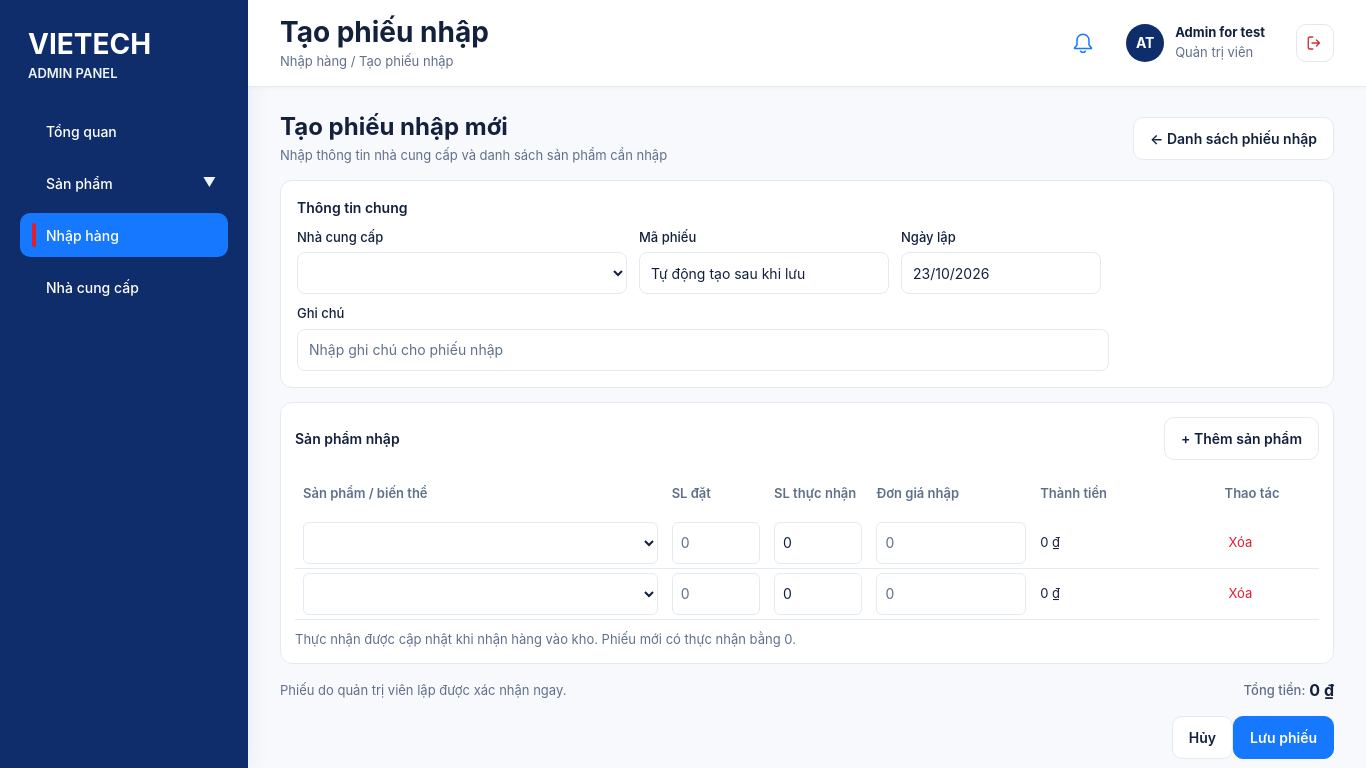
Test: saving a new order submits entered unit prices only and opens its detail using the server date and status
expect the button "Lưu phiếu" is enabled: met, box [1233,716,1334,759]
Select "NCC hoạt động" in the dropdown labelled "Nhà cung cấp" at (462, 273), box [297,252,627,294]
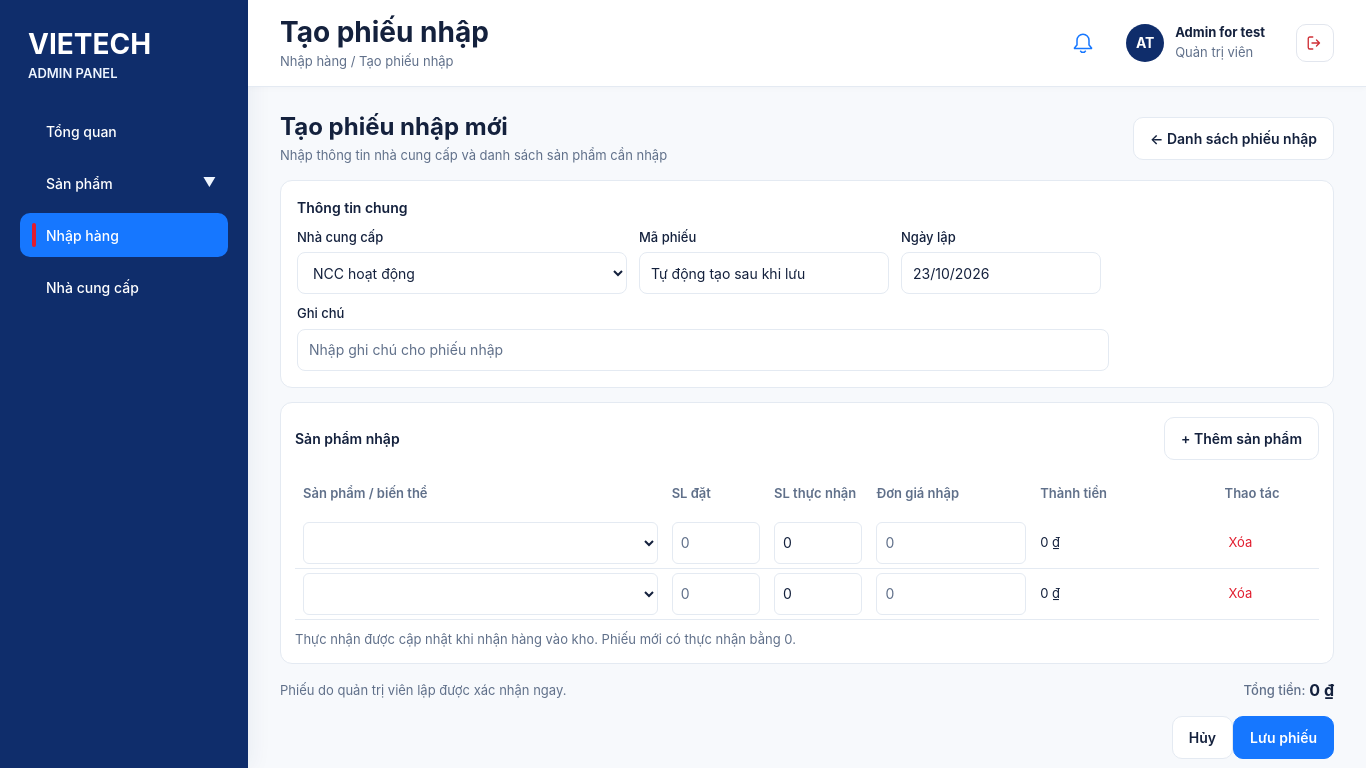
Select "Điện thoại / Đen / PHONE-DEN" in the dropdown named "Sản phẩm / biến thể dòng 1" at (480, 543), box [303,522,658,564]
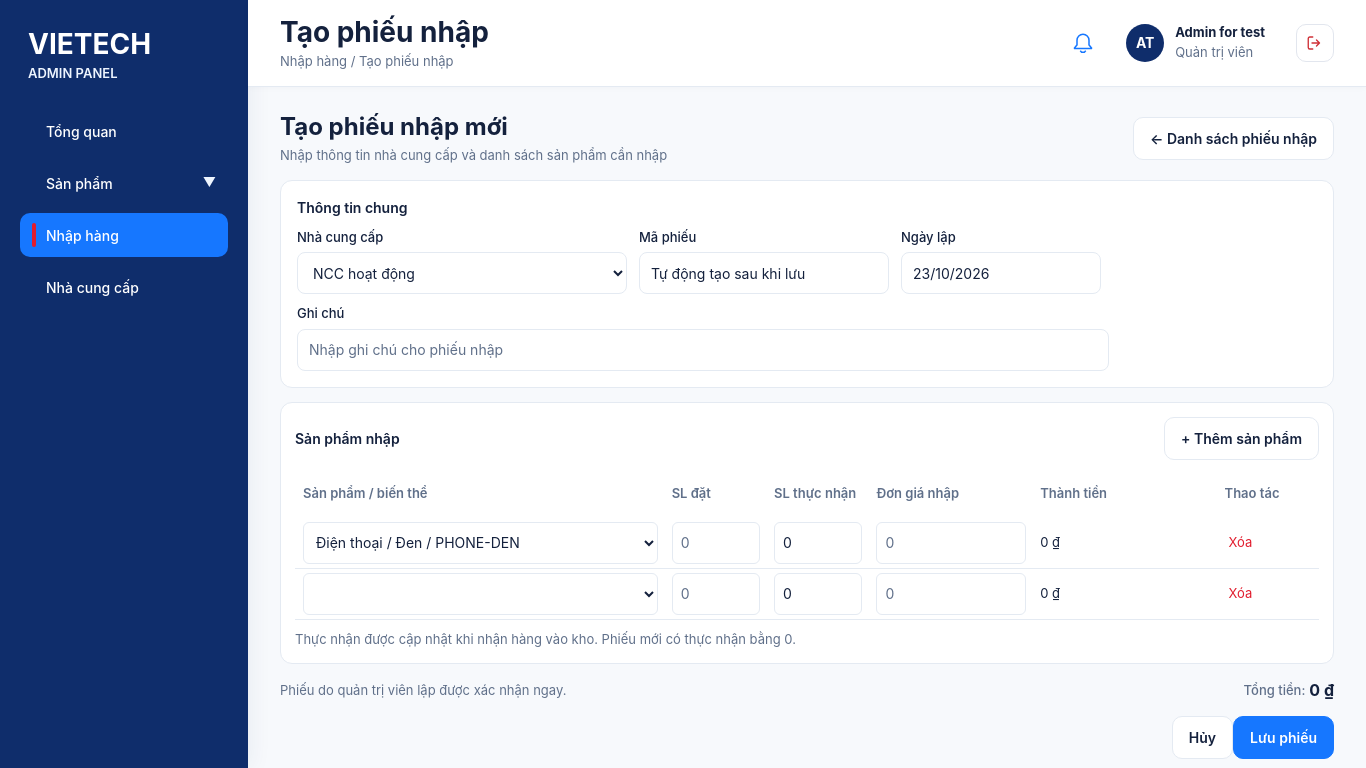
Type "3" into the number field named "Số lượng đặt dòng 1" at (716, 543), box [672,522,760,564]
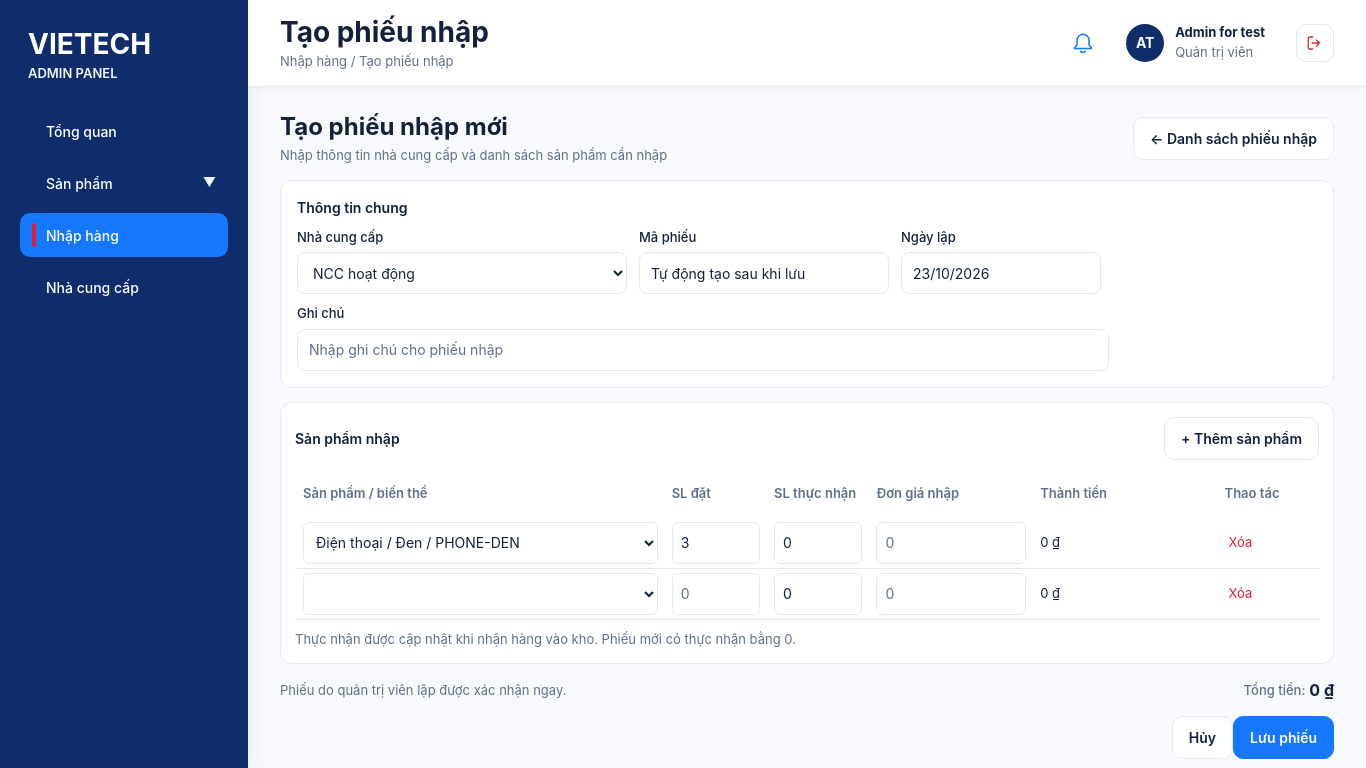
Type "12.50" into the number field named "Đơn giá nhập dòng 1" at (951, 543), box [876,522,1026,564]
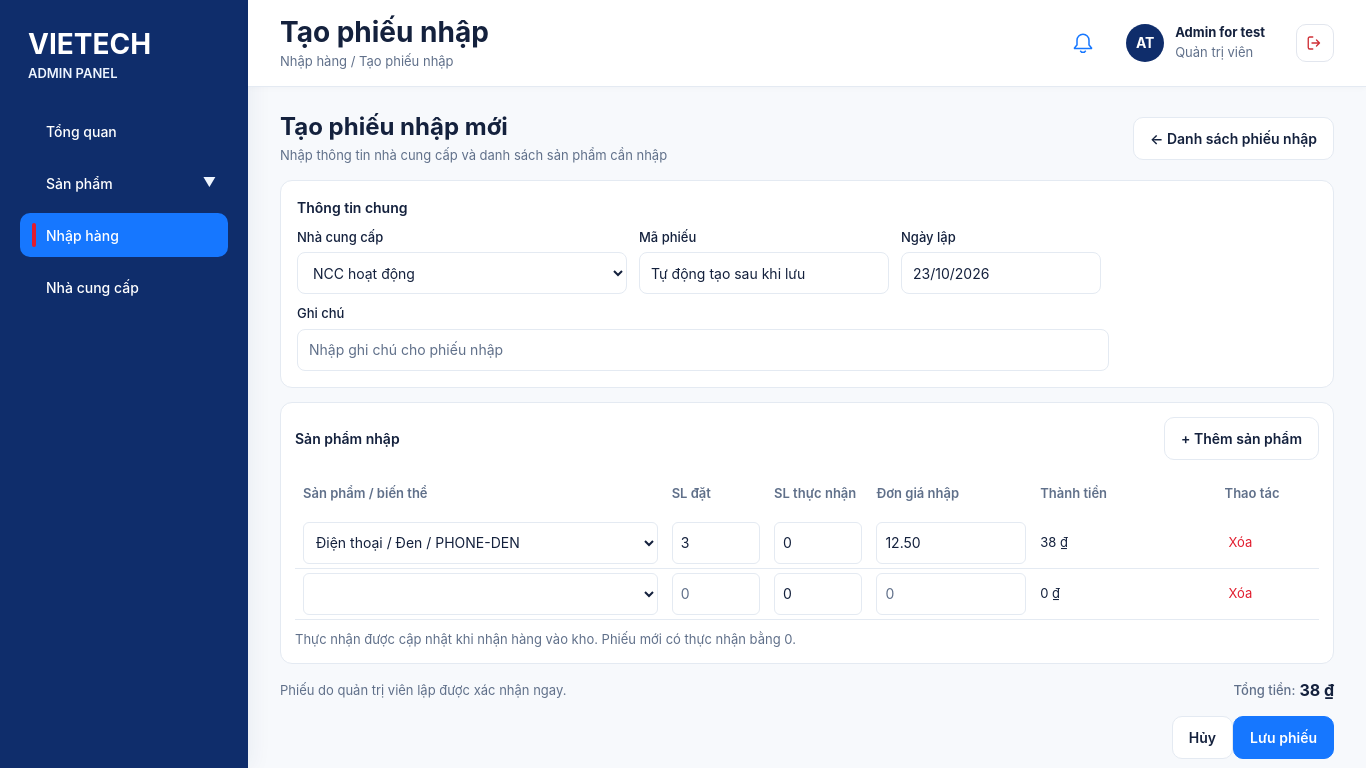
Type " ghi chú tự nhập " into the field named "Ghi chú phiếu" at (703, 350), box [297,329,1109,371]
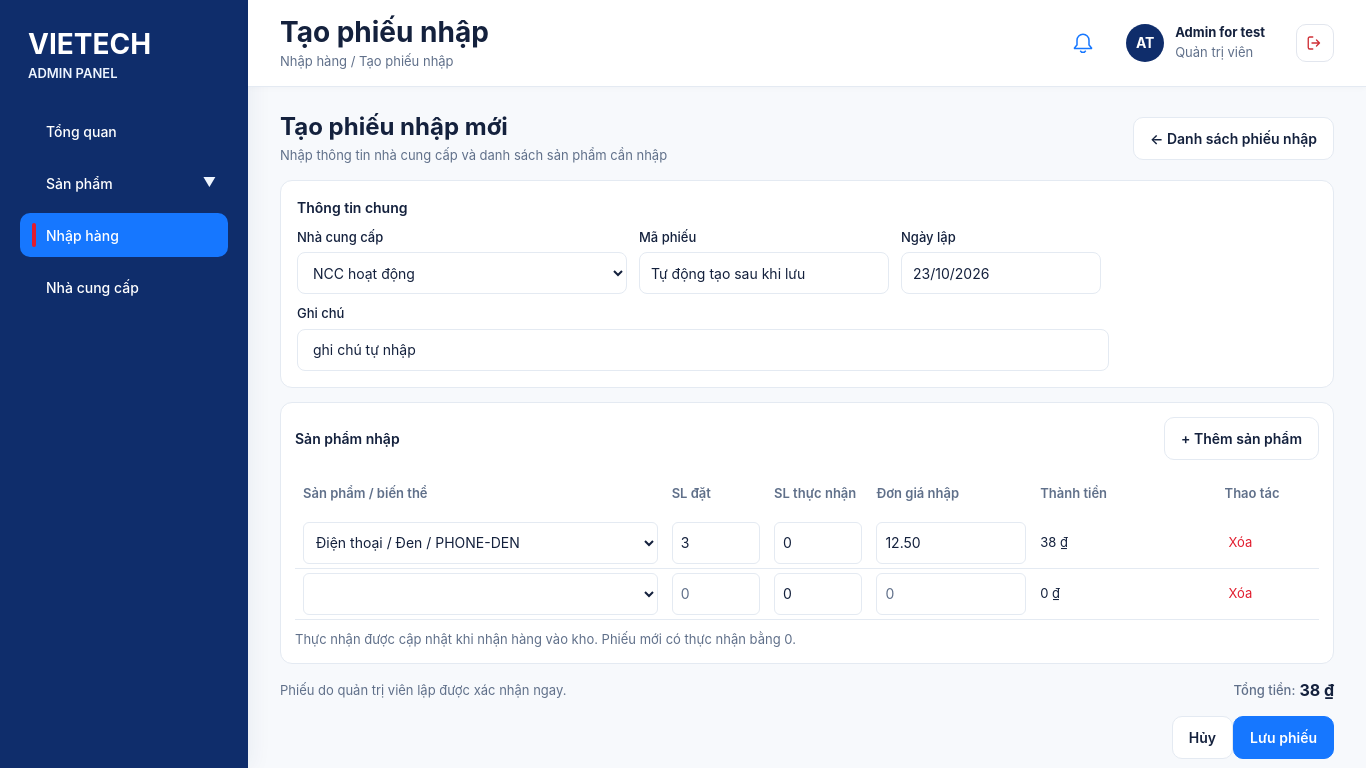
Click the button "Lưu phiếu" at (1284, 738), box [1233,716,1334,759]
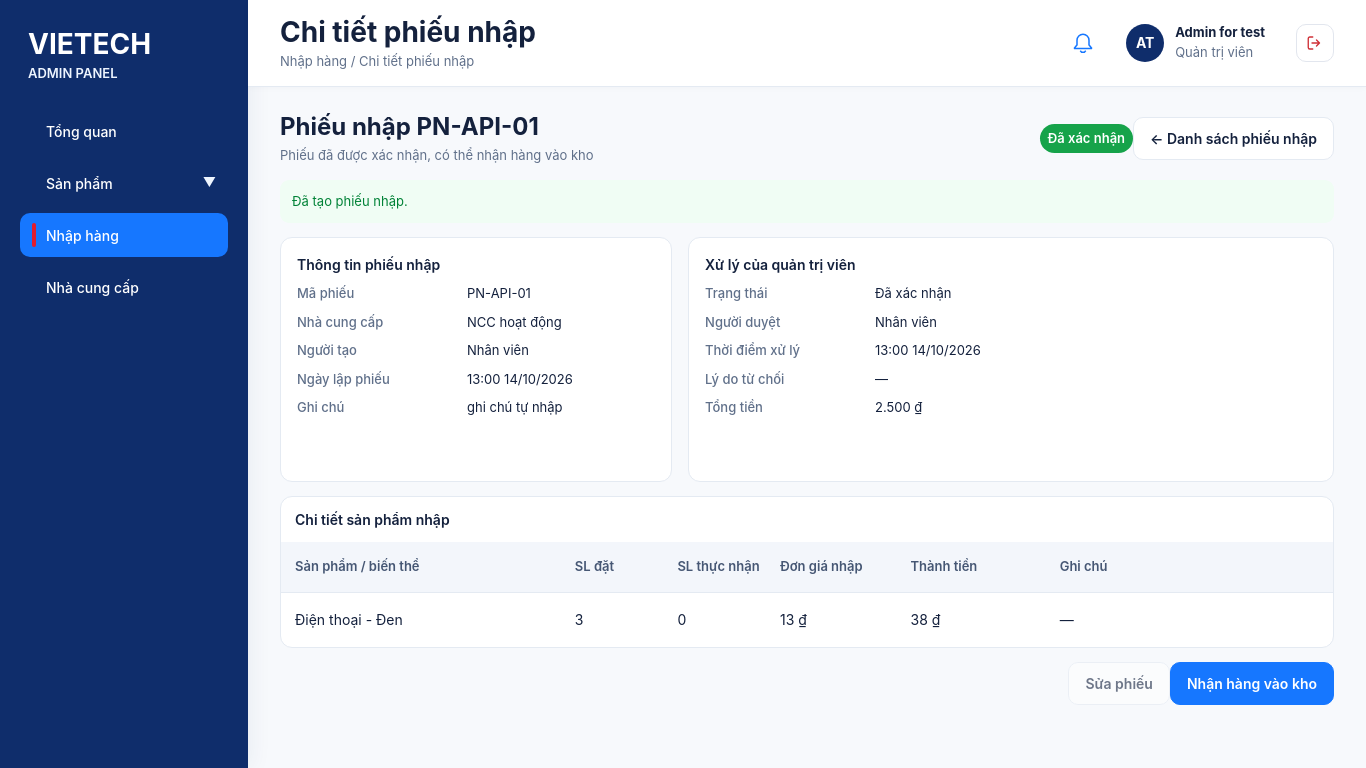
expect the heading "Phiếu nhập PN-API-01" is shown: met, box [280,112,539,141]
expect the text "Đã tạo phiếu nhập." is shown: met, box [280,180,1334,223]
expect the text "13:00 14/10/2026" next to "Ngày lập phiếu" is shown: met, box [467,371,573,387]
